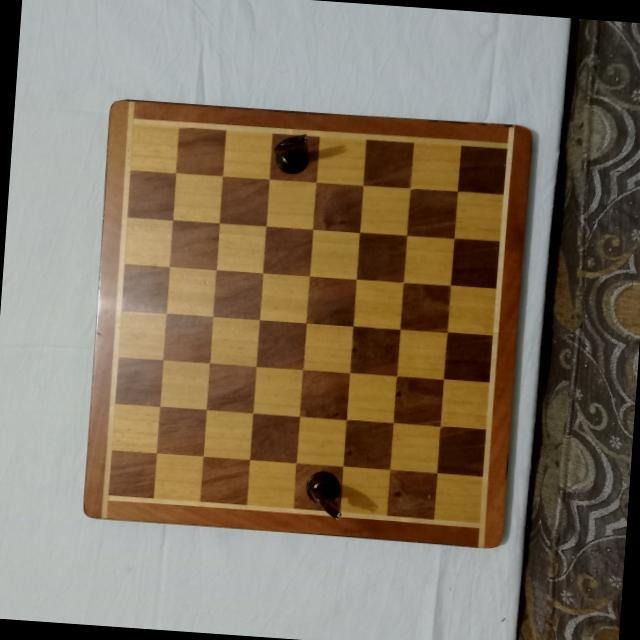black-knight: (303, 467, 347, 519), (271, 128, 312, 175)
